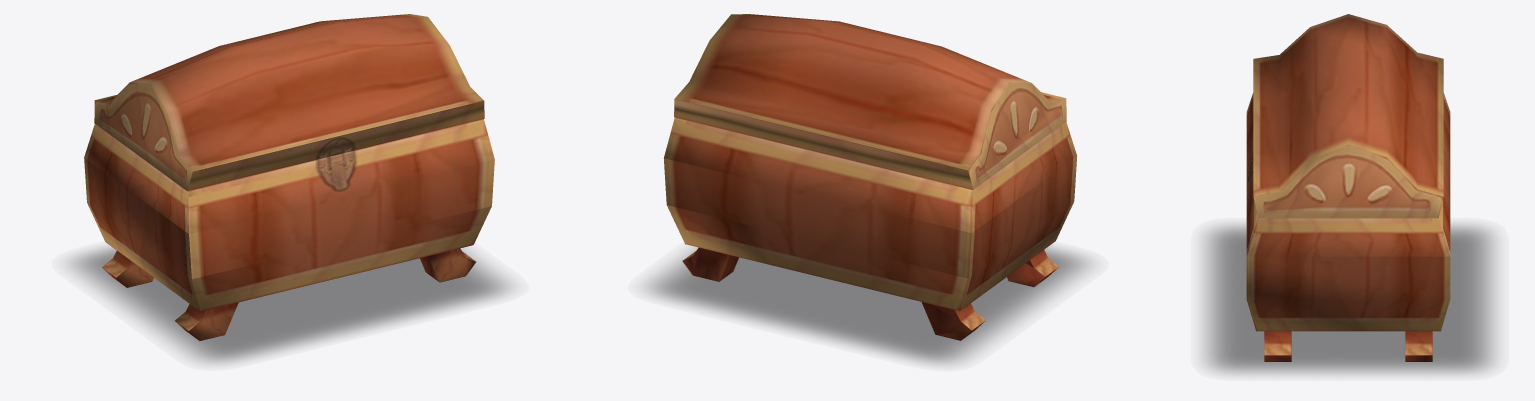
Rendered from tt_m_ara_est_accessoryTrunkGirl.glb.
3 views of the same model, side by side, from view 1: azimuth 30°, elevation 25°; view 2: azimuth 150°, elevation 25°; view 3: azimuth 270°, elevation 25° (orthographic). The views are drawn at different scales.
Visible parts, largest first — view 1: trunk, lid, dropShadow; view 2: trunk, lid, dropShadow; view 3: lid, trunk, dropShadow.
Boxes of the visible parts, x1,y1,x2,y2 form: trunk: (84,119,494,340); lid: (94,14,484,191); dropShadow: (70,246,510,363); trunk: (663,117,1077,340); lid: (674,14,1066,189); dropShadow: (646,246,1089,363); lid: (1253,14,1443,218); trunk: (1246,93,1450,361); dropShadow: (1204,224,1495,373).
Bounding box in the file's own units: 4.25 × 2.62 × 3.5.
Materials: 2 (2 with a texture image).
